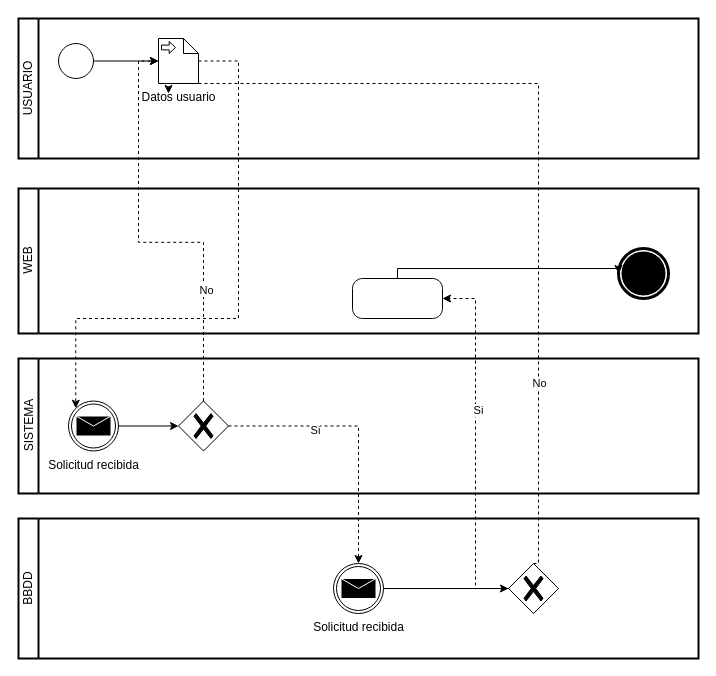
Image size: 716x676. Some labels were removed from this diagram. Here are the shapes that lost their labels. From the top down, the centre of each, then its label:
At [76,60]: "Persona se quiere logear".
At [397,298]: "Login Correcto".
At [203,425]: "Las Credenciales son buenas".
At [533,588]: "El usuario esta en la BBDD".
